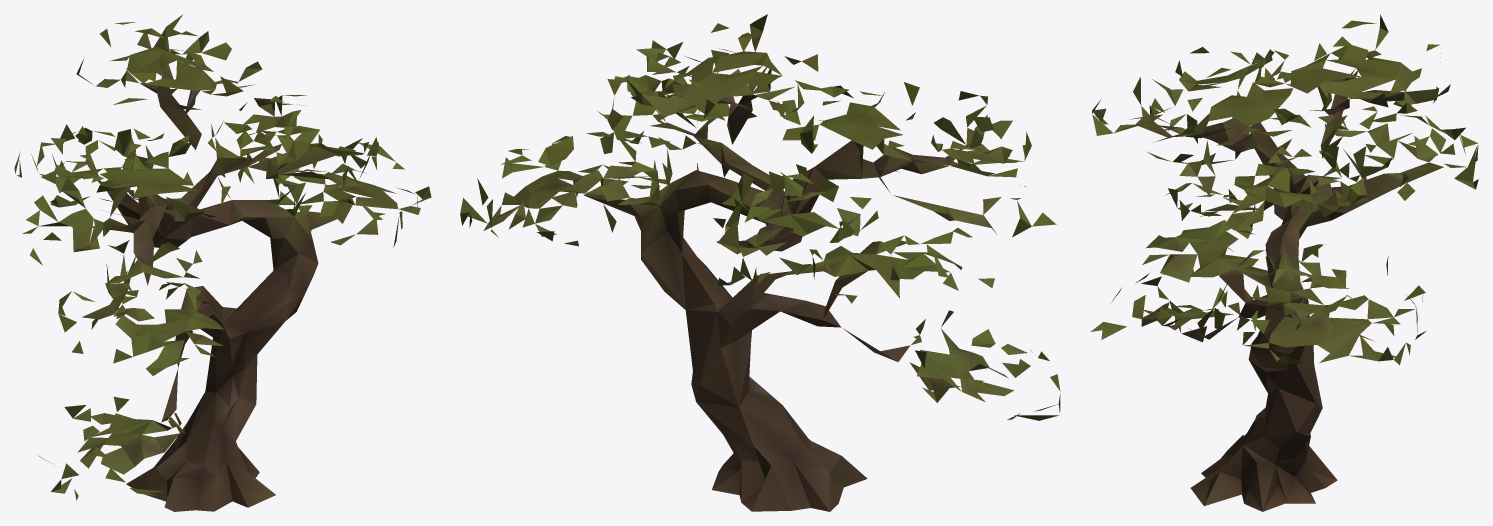
File: lib_tp_kuromatsu.vc2.glb
3 renders of one model, left to right at view 1: azimuth 30°, elevation 25°; view 2: azimuth 150°, elevation 25°; view 3: azimuth 270°, elevation 25°, orthographic. The views are drawn at different scales.
Parts seen in each view (by area): view 1: lib_tp_kuromatsu; view 2: lib_tp_kuromatsu; view 3: lib_tp_kuromatsu.
Boxes of the visible parts, bbox=[...] form: lib_tp_kuromatsu: bbox=[14, 14, 431, 511]; lib_tp_kuromatsu: bbox=[460, 14, 1060, 511]; lib_tp_kuromatsu: bbox=[1090, 14, 1478, 511].
Bounding box in the file's own units: 1.8 × 1.68 × 1.3.
